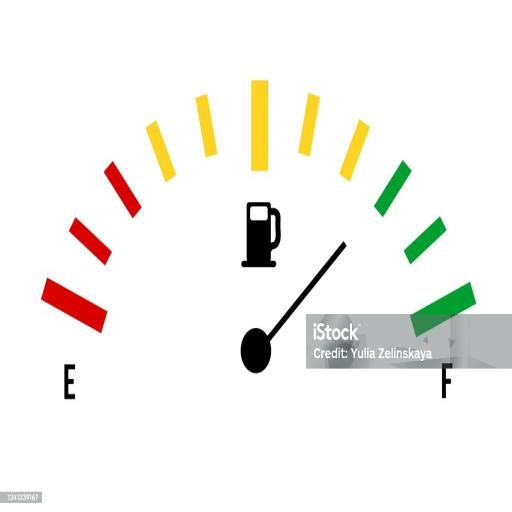empty: (59, 363, 82, 398)
fuel_icon: (236, 203, 284, 266)
full: (442, 364, 455, 398)
guage_area: (39, 74, 480, 411)
needle_center: (236, 324, 278, 382)
needle_tip: (334, 236, 354, 260)
